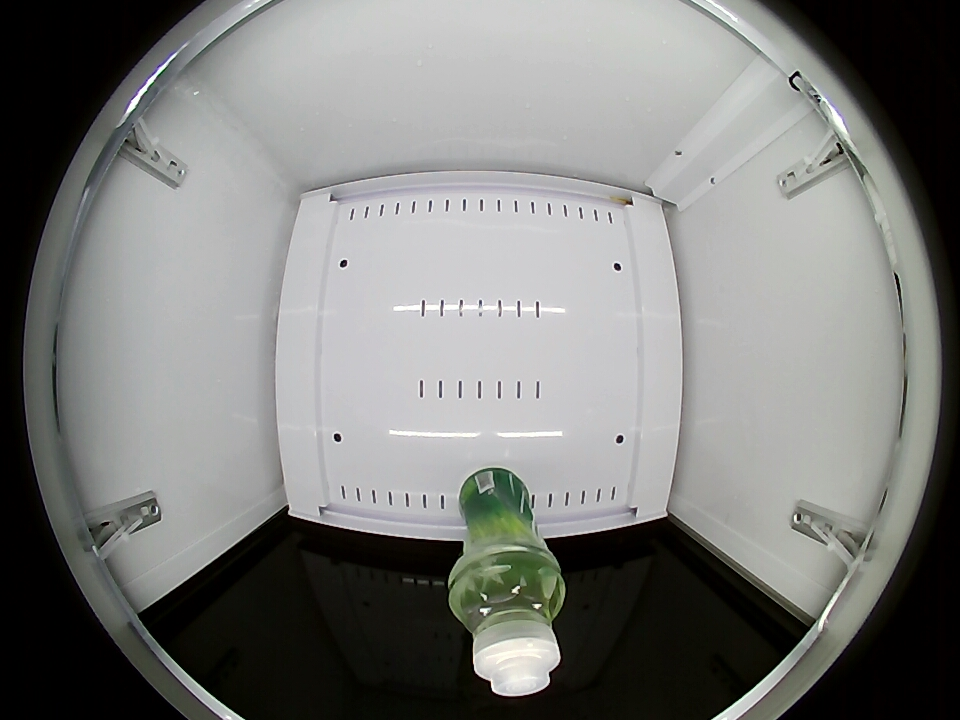jianjiao: (448, 548, 566, 696)
